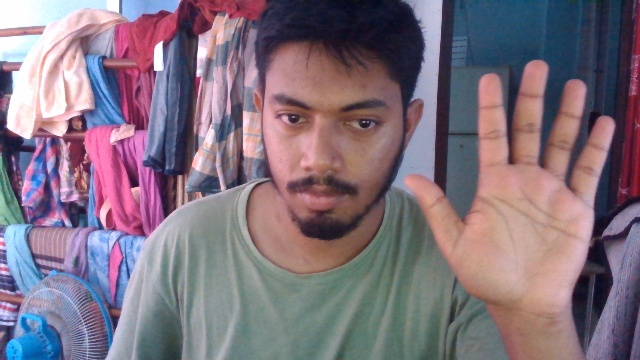hello: (399, 47, 620, 328)
